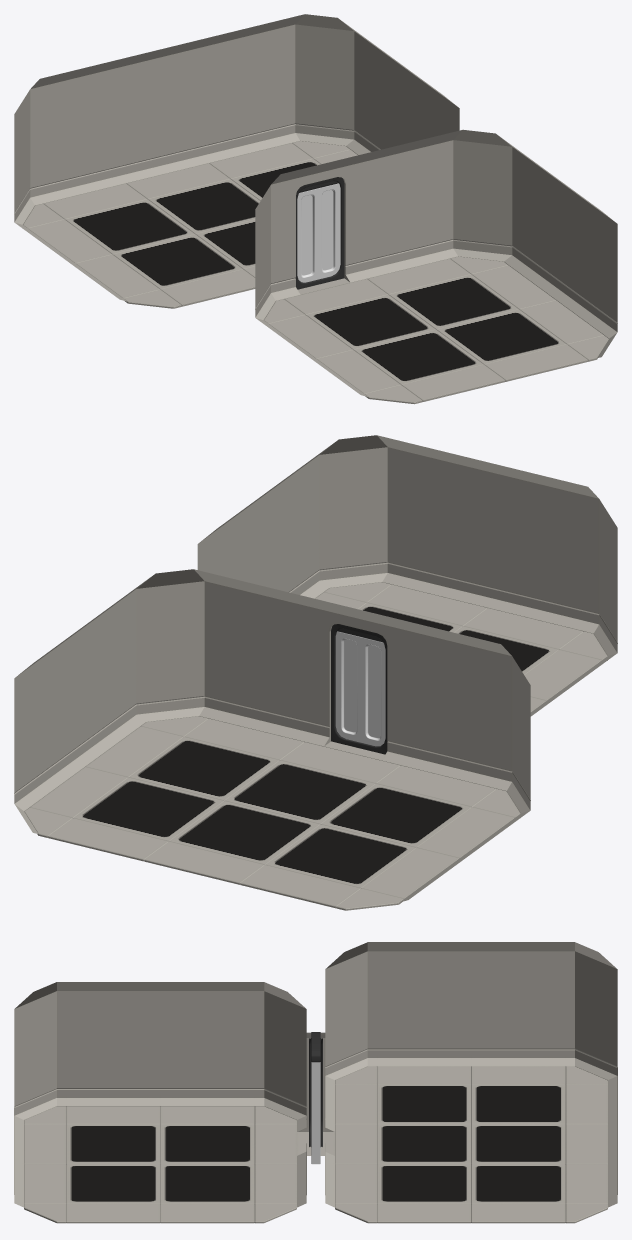
File: spaceship_walls.glb
3 views of the same model, one above another, from view 1: azimuth 30°, elevation 25°; view 2: azimuth 150°, elevation 25°; view 3: azimuth 270°, elevation 25° (orthographic). The views are drawn at different scales.
Visible parts, largest first — view 1: ground_low.001, door.001, door_soft_low; view 2: ground_low.001, door.001, door_soft_low; view 3: ground_low.001, door.001, door_soft_low.
Boxes of the visible parts, x1=… form: ground_low.001: x1=14, y1=14, x2=617, y2=404; door.001: x1=297, y1=181, x2=340, y2=282; door_soft_low: x1=295, y1=177, x2=344, y2=289; ground_low.001: x1=14, y1=435, x2=617, y2=910; door.001: x1=335, y1=628, x2=385, y2=746; door_soft_low: x1=331, y1=624, x2=387, y2=754; ground_low.001: x1=14, y1=942, x2=617, y2=1223; door.001: x1=311, y1=1032, x2=320, y2=1164; door_soft_low: x1=309, y1=1038, x2=322, y2=1146.
Size of the model in its own units: 8.22 by 3.2 by 12.82.
3 materials, 1 textured.
